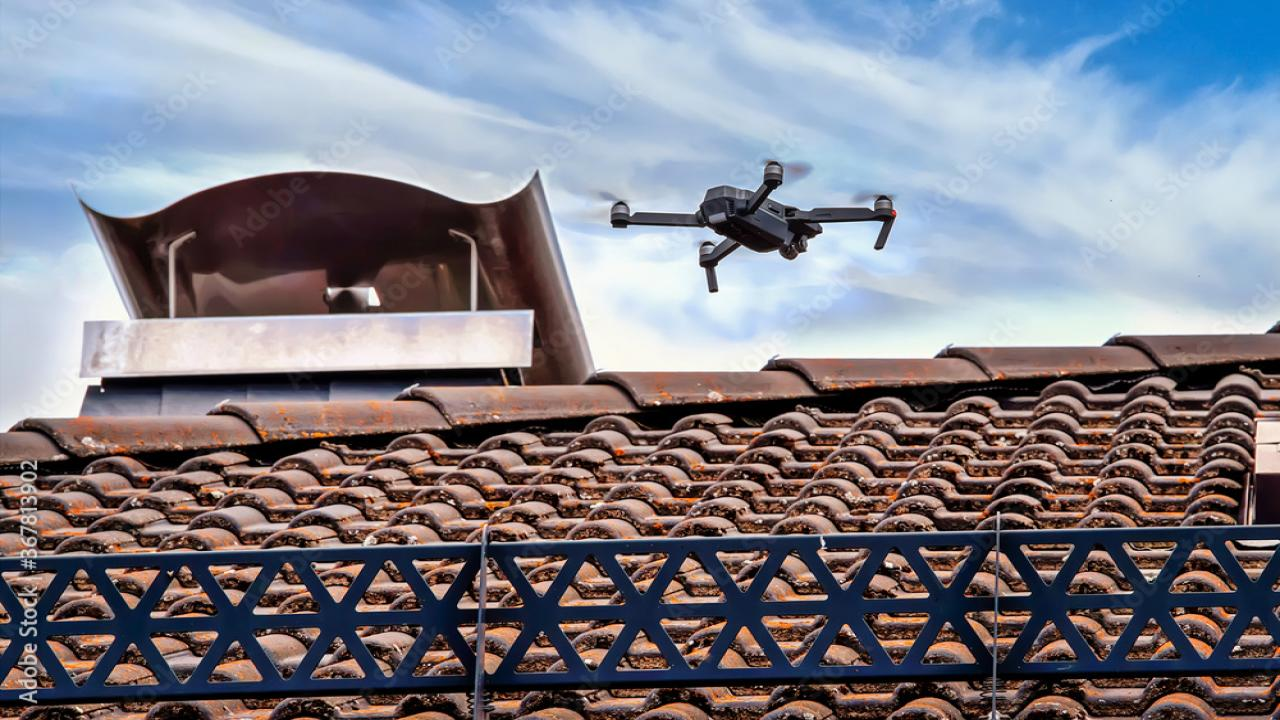Drone: (582, 133, 912, 312)
